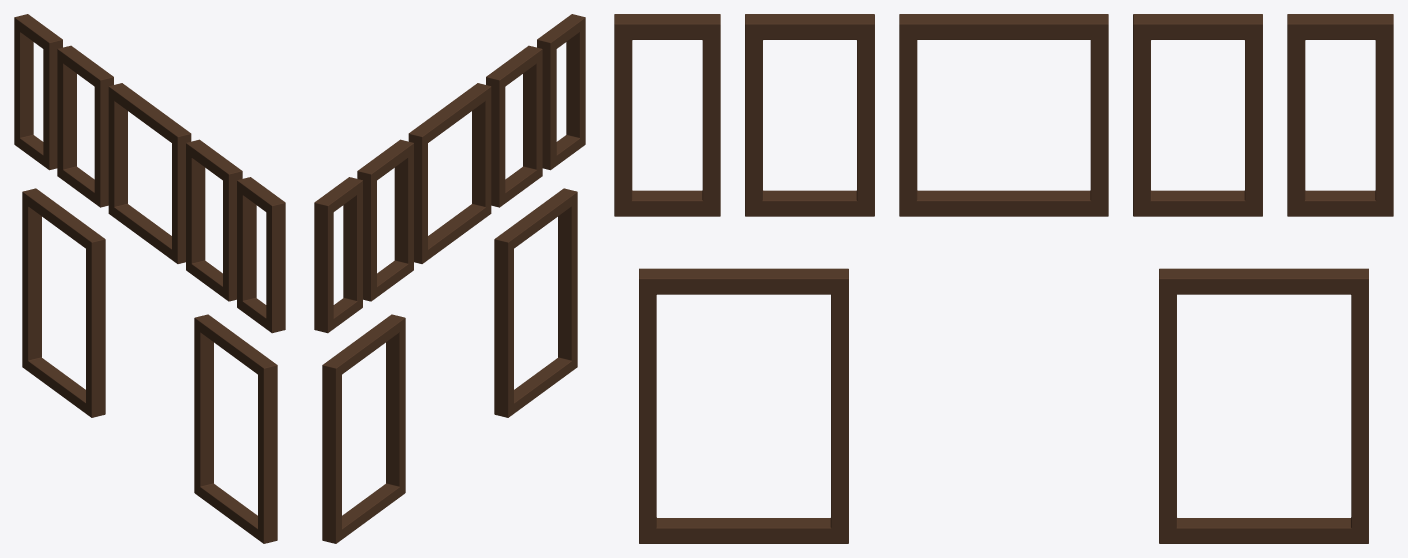
File: windows.fbx
3 renders of one model, left to right at view 1: azimuth 30°, elevation 25°; view 2: azimuth 150°, elevation 25°; view 3: azimuth 270°, elevation 25°, orthographic. The views are drawn at different scales.
Visible parts, largest first — view 1: Cube.003; view 2: Cube.003; view 3: Cube.003.
Boxes of the visible parts, x1,y1,x2,y2 form: Cube.003: (14,14,285,543); Cube.003: (314,14,585,543); Cube.003: (614,14,1393,543).
Bounding box in the file's own units: 17.89 × 420 × 571.
